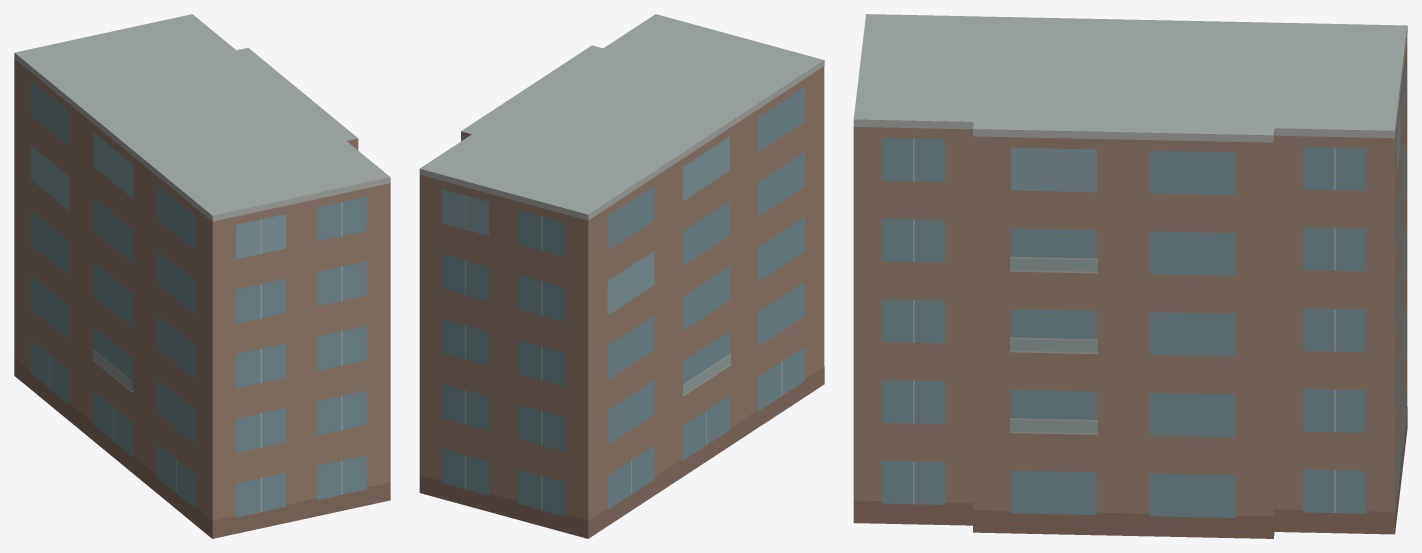
Rendered from survey-upis-32543106.glb.
The picture shows the model from 3 angles, left to right: view 1: azimuth 30°, elevation 25°; view 2: azimuth 150°, elevation 25°; view 3: azimuth 270°, elevation 25°; orthographic projection. The views are drawn at different scales.
Parts seen in each view (by area): view 1: survey-upis-32543106.tmp; view 2: survey-upis-32543106.tmp; view 3: survey-upis-32543106.tmp.
Boxes of the visible parts, <box> form: survey-upis-32543106.tmp: <box>14,14,390,538</box>; survey-upis-32543106.tmp: <box>419,14,824,538</box>; survey-upis-32543106.tmp: <box>853,14,1407,538</box>.
Bounding box in the file's own units: 8.62 × 13.35 × 16.61.
